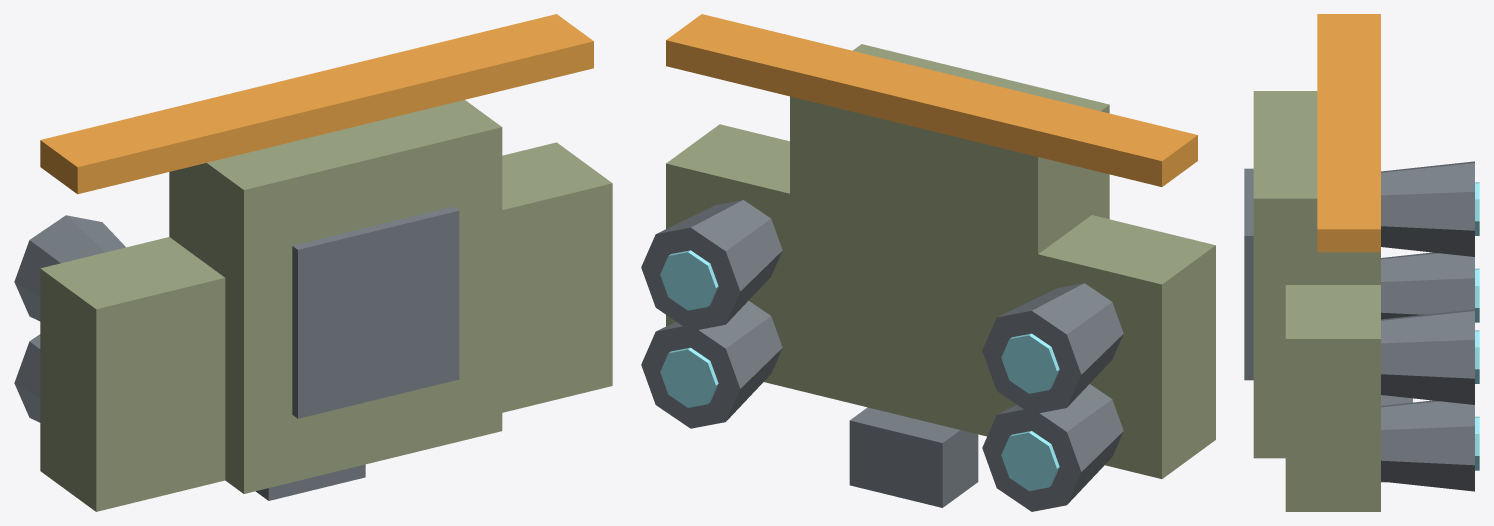
Rendered from mod-line-mech-back-26891.glb.
The picture shows the model from 3 angles, left to right: view 1: azimuth 30°, elevation 25°; view 2: azimuth 150°, elevation 25°; view 3: azimuth 270°, elevation 25°; orthographic projection. The views are drawn at different scales.
Bounding box in the file's own units: 6.74 × 4.97 × 3.12.
